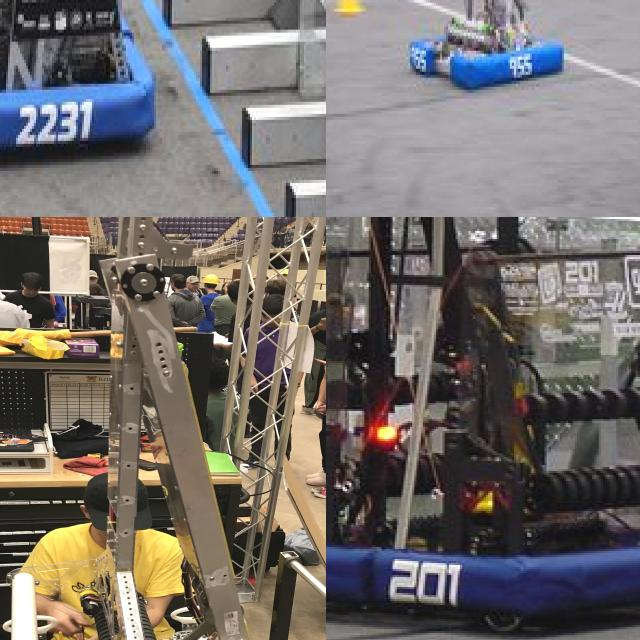FRC-Robots: (326, 217, 640, 640), (9, 217, 251, 640), (0, 0, 176, 171), (396, 0, 570, 96)
